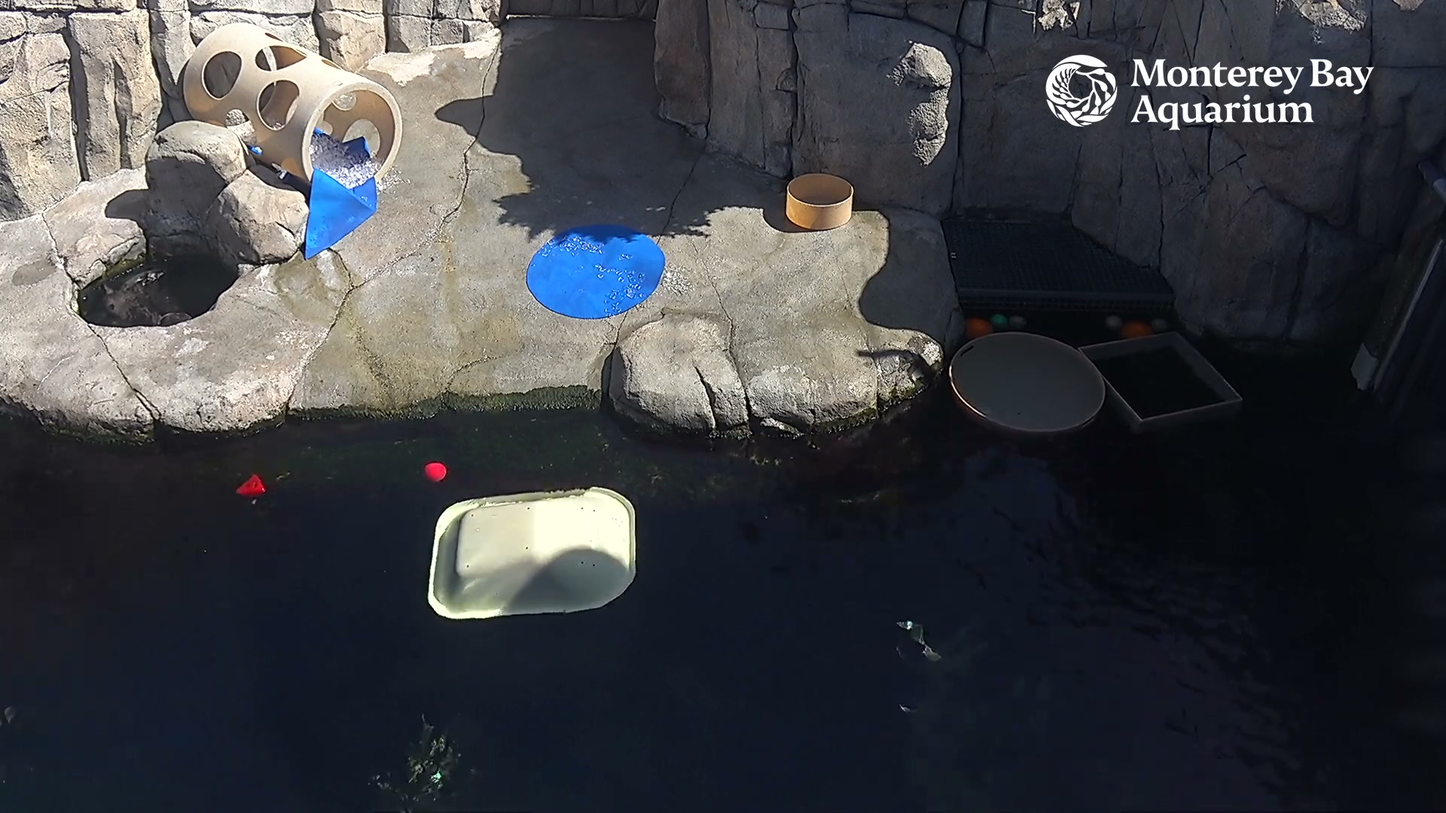Southern Sea Otter: (97, 257, 206, 334)
